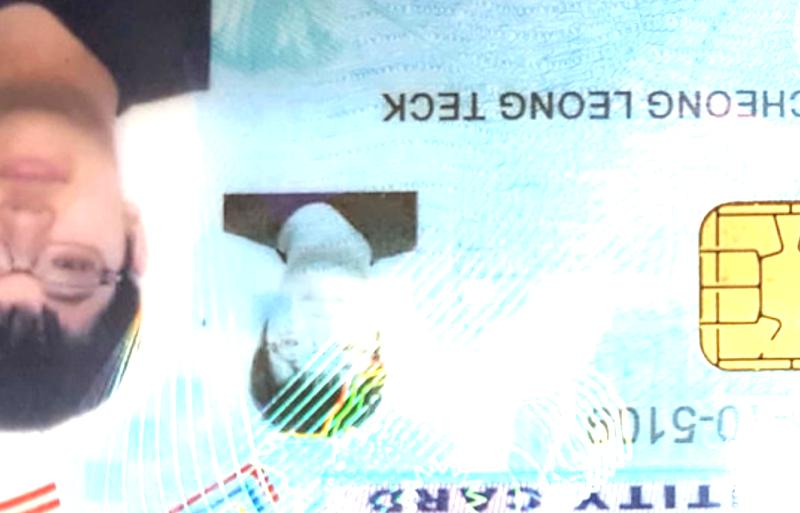hologram: (427, 161, 683, 382)
